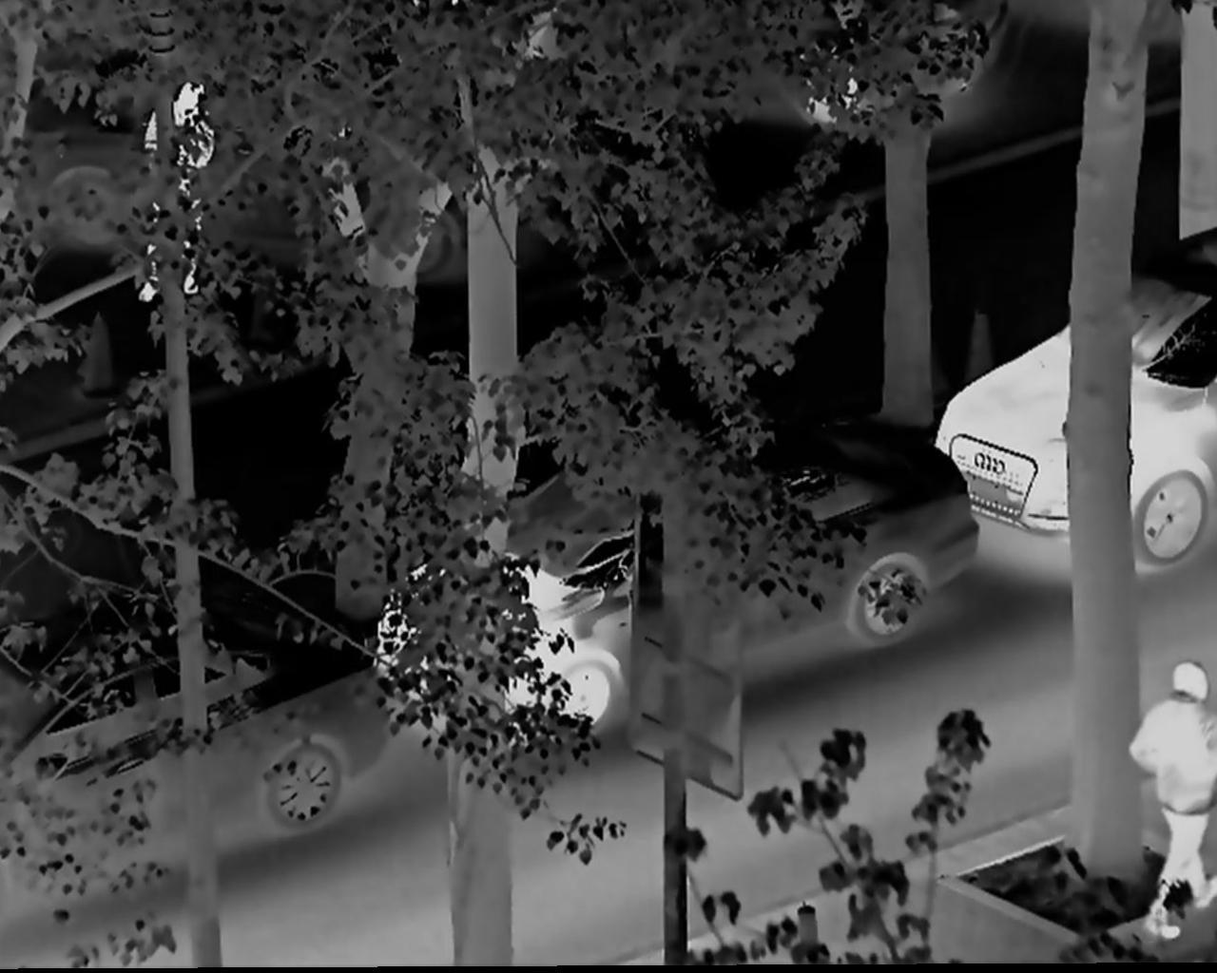person: (1125, 653, 1215, 942), (133, 82, 211, 291)
